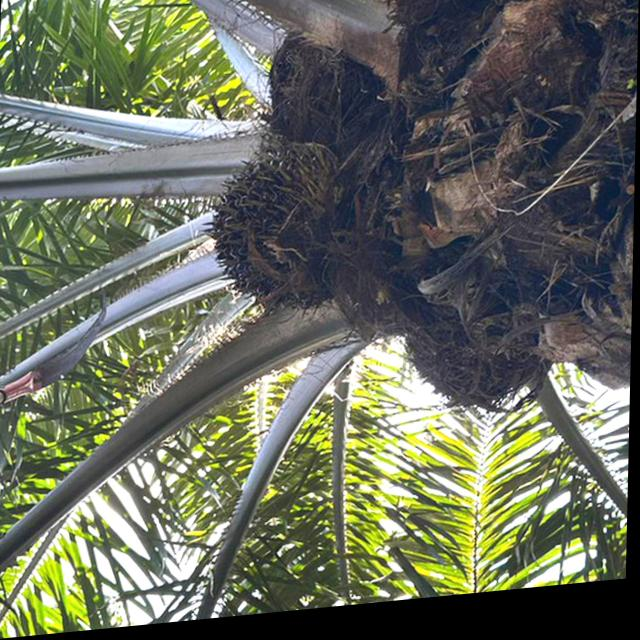unripe: (194, 135, 371, 339), (397, 283, 564, 440), (256, 21, 387, 187)
